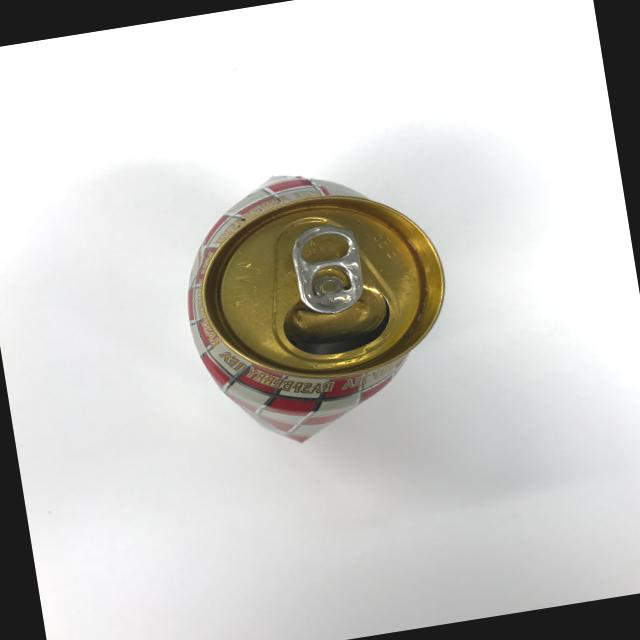Metal: (107, 146, 490, 472)
